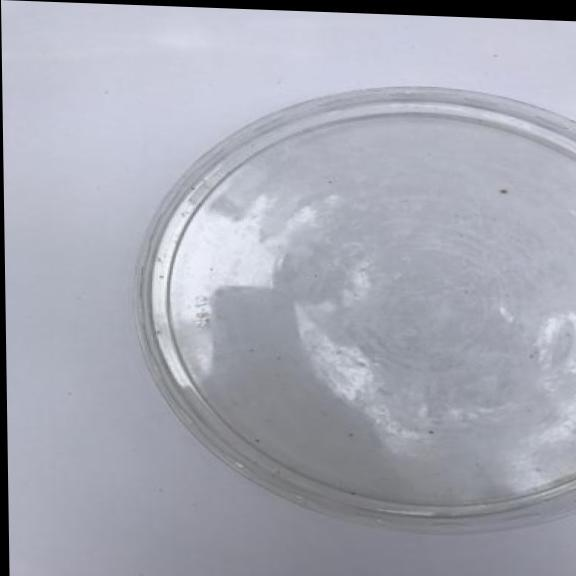Plastik: (118, 71, 576, 534)
